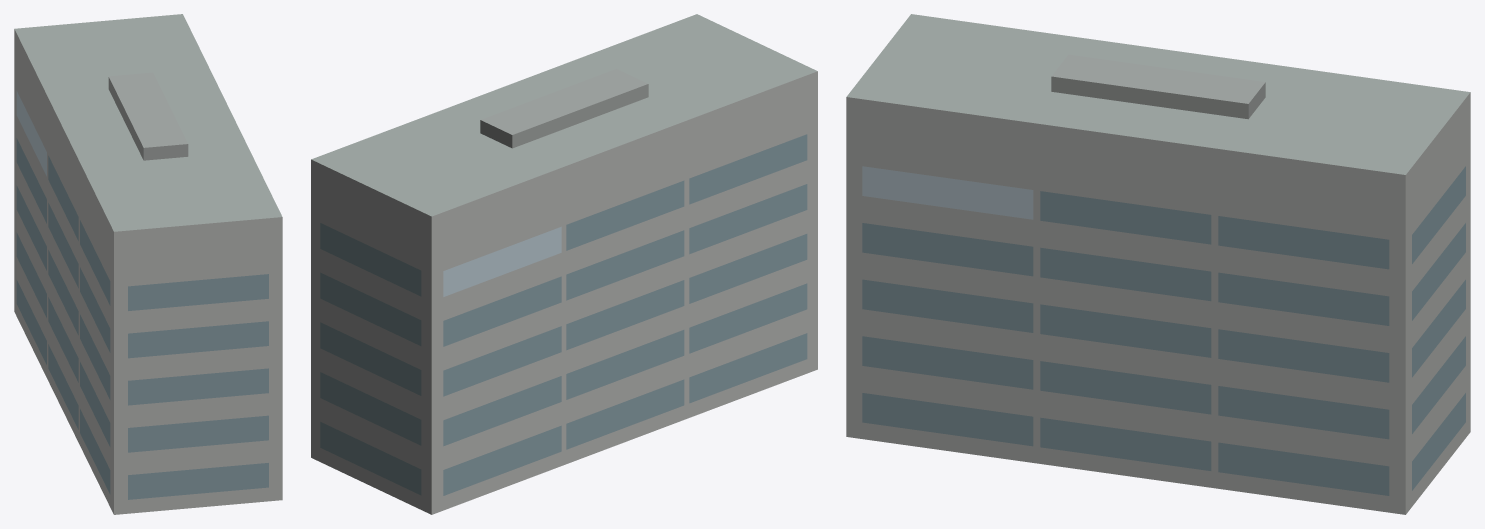
File: fallback-olympic-athletes-village-219.glb
The picture shows the model from 3 angles, left to right: view 1: azimuth 30°, elevation 25°; view 2: azimuth 150°, elevation 25°; view 3: azimuth 270°, elevation 25°; orthographic projection. The views are drawn at different scales.
Parts seen in each view (by area): view 1: fallback-olympic-athletes-village-219; view 2: fallback-olympic-athletes-village-219; view 3: fallback-olympic-athletes-village-219.
Part boxes in pixels (x1,y1,x2,y2): fallback-olympic-athletes-village-219: (14,14,282,514); fallback-olympic-athletes-village-219: (311,14,817,514); fallback-olympic-athletes-village-219: (846,14,1470,514).
Size of the model in its own units: 18.59 by 19.12 by 30.46.
